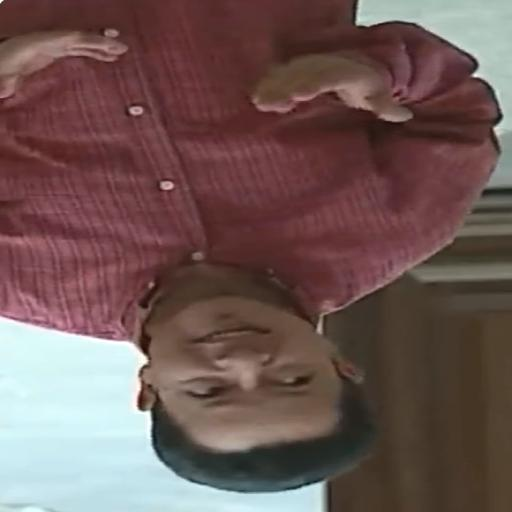fouchika: (137, 289, 374, 491)
